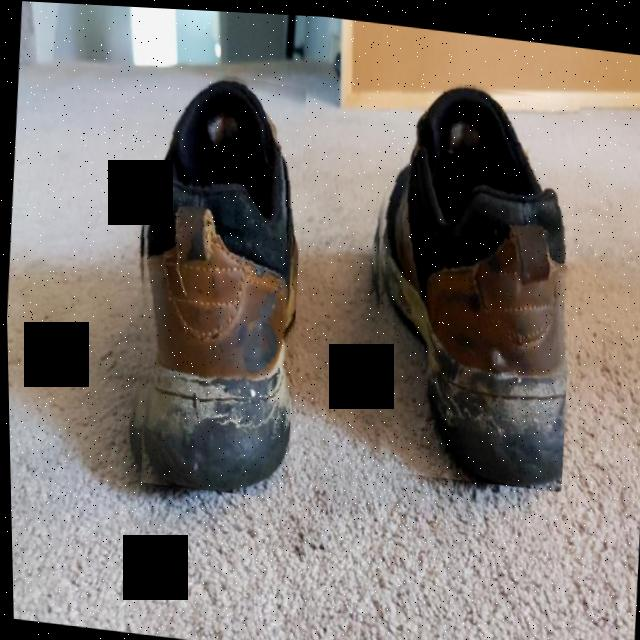shoe: (350, 68, 587, 487), (115, 59, 313, 497)
